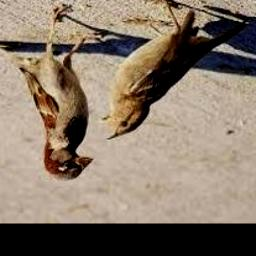Sparrow: (101, 0, 249, 141), (0, 4, 104, 181)
